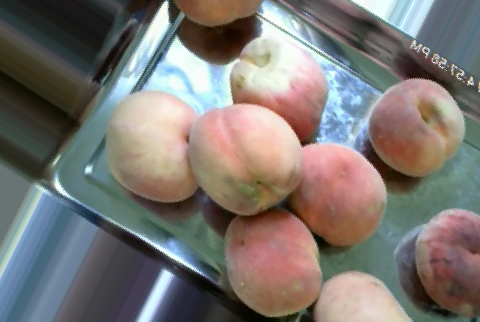Peach: (187, 102, 302, 215), (226, 32, 329, 145), (282, 142, 388, 247), (221, 208, 322, 317), (107, 90, 202, 201), (366, 80, 465, 177), (412, 209, 478, 314), (314, 268, 411, 322)
